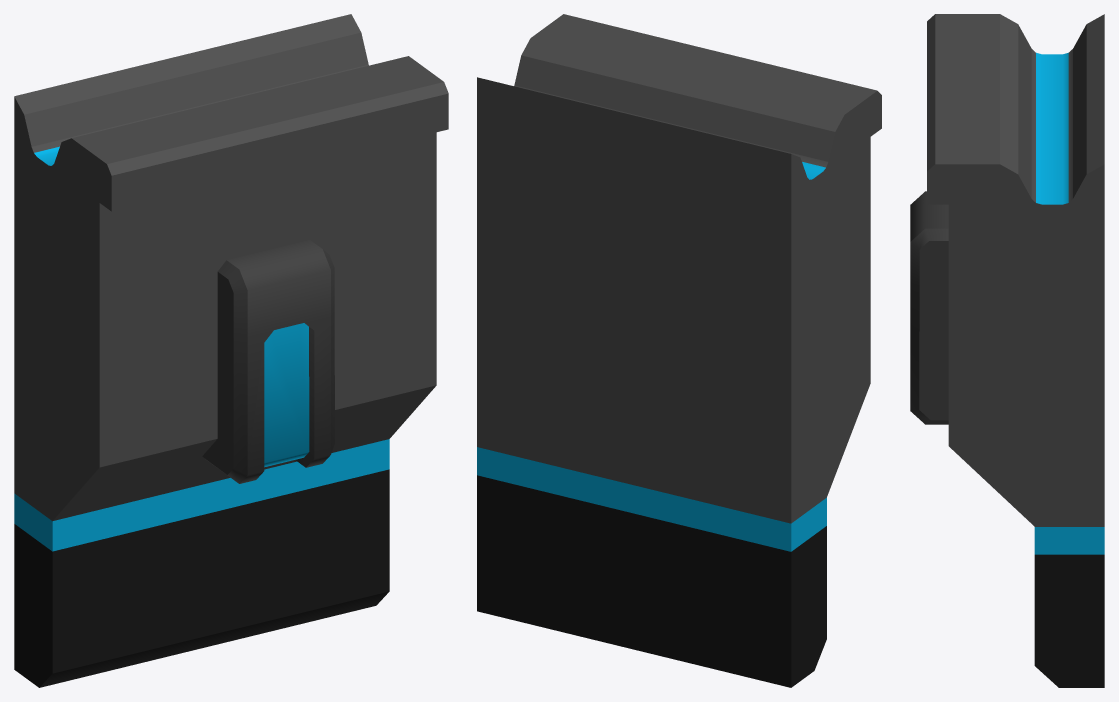
File: Floor_Edge_01x2C.fbx
3 renders of one model, left to right at view 1: azimuth 30°, elevation 25°; view 2: azimuth 150°, elevation 25°; view 3: azimuth 270°, elevation 25°, orthographic. The views are drawn at different scales.
Parts seen in each view (by area): view 1: Floor_Edge_01x2C; view 2: Floor_Edge_01x2C; view 3: Floor_Edge_01x2C.
Part boxes in pixels (<box>): Floor_Edge_01x2C: <box>14,14,448,687</box>; Floor_Edge_01x2C: <box>477,14,881,687</box>; Floor_Edge_01x2C: <box>910,14,1104,687</box>.
Bounding box in the file's own units: 400 × 650 × 219.
